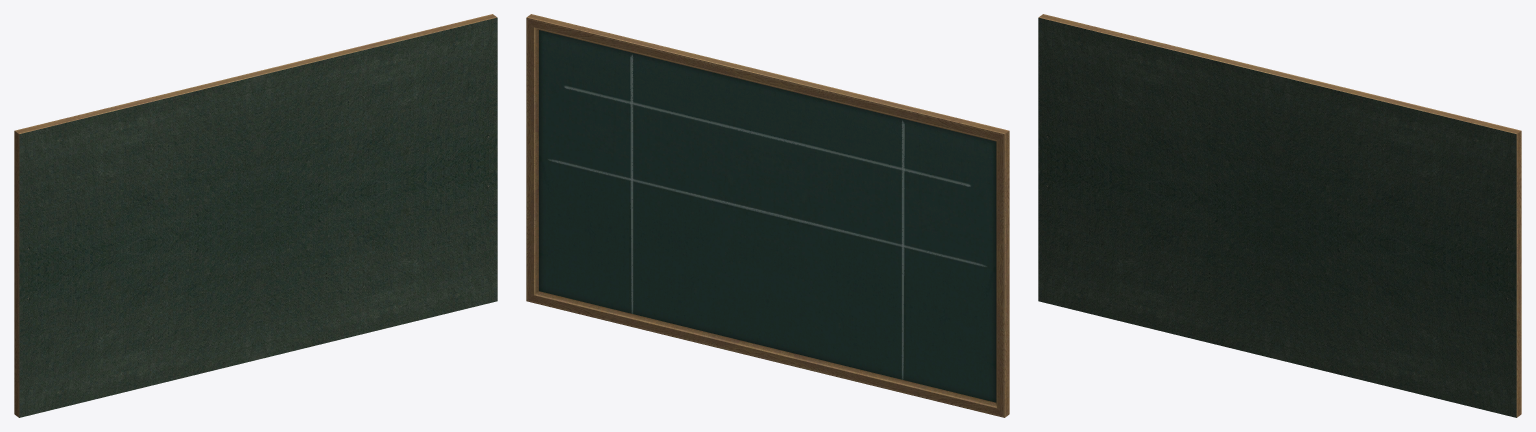
Rendered from Prop_Jjhb01.glb.
3 renders of one model, left to right at view 1: azimuth 30°, elevation 25°; view 2: azimuth 150°, elevation 25°; view 3: azimuth 330°, elevation 25°, orthographic.
Visible parts, largest first — view 1: xiutz_jjhb_01; view 2: xiutz_jjhb_01; view 3: xiutz_jjhb_01.
Part boxes in pixels (x1,y1,x2,y2): xiutz_jjhb_01: (14,14,497,417); xiutz_jjhb_01: (526,14,1009,417); xiutz_jjhb_01: (1038,14,1521,417).
Bounding box in the file's own units: 3.41 × 1.94 × 0.06.
Materials: 1 (1 with a texture image).
